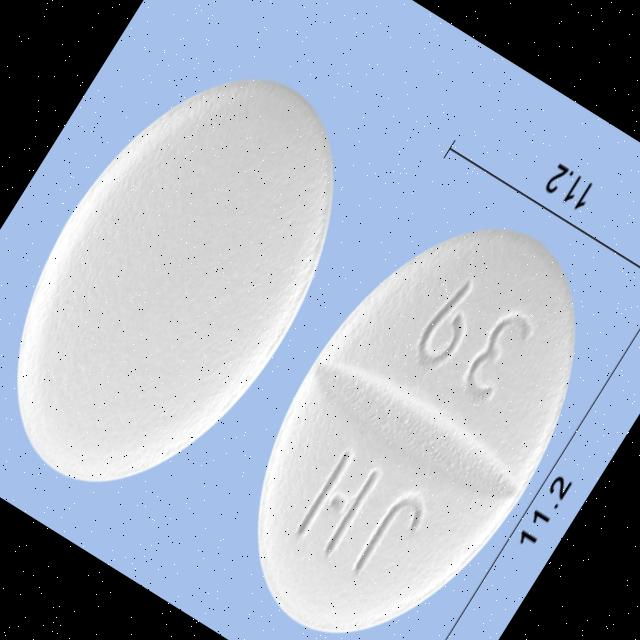Ciflox - 250mg: (183, 168, 640, 640), (0, 17, 404, 545)
